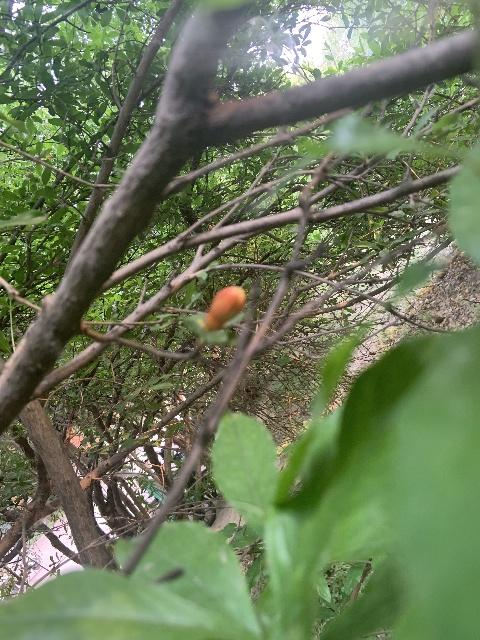bud: (204, 285, 246, 330)
